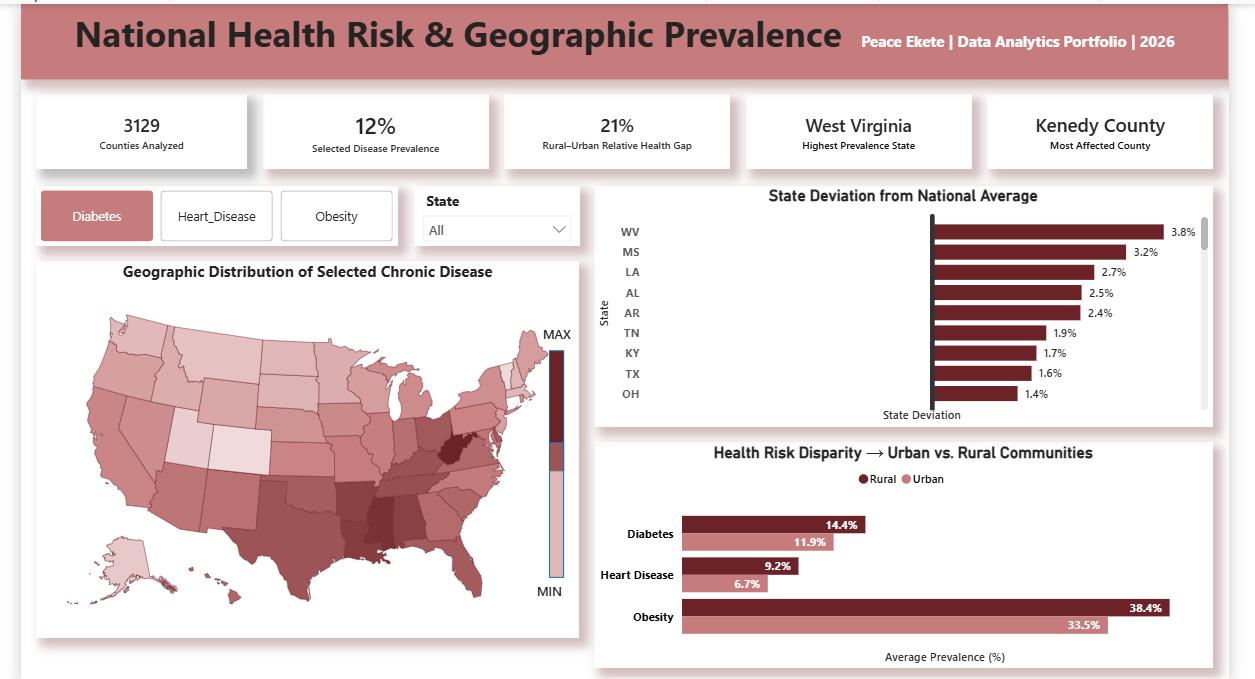

What the dashboard file says about the page in this screenshot:
{"tool":"powerbi","page":{"name":" Page 1 — National Health Risk & Geographic Prevalence","canvas":[1280,720],"ordinal":0},"visuals":[{"type":"advancedSlicerVisual","fields":{"Values":["Slicer_Table.Outcome_Name"]},"box":[16,192,384,64],"z":0},{"type":"clusteredBarChart","title":"Health Risk Disparity → Urban vs. Rural Communities","fields":{"Category":["Urban_Rural_Comparison.Metric"],"Y":["master_county_final.Chart_UrbanRural_Comparison"],"Series":["Urban_Rural_Comparison.Urban_Rural"]},"box":[608,464,656,240],"z":1000},{"type":"clusteredBarChart","title":"State Deviation from National Average","fields":{"Category":["master_county_final.State"],"Y":["master_county_final.State Deviation"]},"box":[608,192,656,256],"z":2000},{"type":"slicer","fields":{"Values":["State_Lookup.State_Full"]},"box":[416,192,176,64],"z":3000},{"type":"shapeMap","title":"Geographic Distribution of Selected Chronic Disease","fields":{"Value":["Outcome Selector.Selected_Outcome_Value4"],"Category":["State_Lookup.State_Full"]},"box":[16,272,576,400],"z":4000},{"type":"cardVisual","fields":{"Data":["master_county_final.Counties Analyzed"]},"box":[16,96,224,80],"z":5000},{"type":"textbox","box":[0,0,1280,80],"z":6000},{"type":"cardVisual","fields":{"Data":["master_county_final.Rural_Disparity_Pct"]},"box":[512,96,240,80],"z":7000},{"type":"cardVisual","fields":{"Data":["Outcome Selector.Health Outcome"]},"box":[256,96,240,80],"z":8000},{"type":"cardVisual","fields":{"Data":["master_county_final.Highest Prevalence State"]},"box":[768,96,240,80],"z":9000},{"type":"cardVisual","fields":{"Data":["master_county_final.Most_Vulnerable_County"]},"box":[1024,96,240,80],"z":10000},{"type":"shape","box":[560,368,16,128],"z":11000},{"type":"shape","box":[560,464,16,144],"z":12000},{"type":"textbox","box":[544,336,48,48],"z":13000},{"type":"textbox","box":[528,608,64,48],"z":14000}]}

Visuals, with their boxes on the page's 1280x720 design canvas (x1, y1, x2, y2). These are canvas units, not pixel positions in the 1255x679 screenshot, which may show the page scaled, cropped or inside an application window:
advancedSlicerVisual - Slicer_Table.Outcome_Name: 16 192 400 256
"Health Risk Disparity → Urban vs. Rural Communities" clusteredBarChart: 608 464 1264 704
"State Deviation from National Average" clusteredBarChart: 608 192 1264 448
slicer - State_Lookup.State_Full: 416 192 592 256
"Geographic Distribution of Selected Chronic Disease" shapeMap: 16 272 592 672
cardVisual - master_county_final.Counties Analyzed: 16 96 240 176
textbox: 0 0 1280 80
cardVisual - master_county_final.Rural_Disparity_Pct: 512 96 752 176
cardVisual - Outcome Selector.Health Outcome: 256 96 496 176
cardVisual - master_county_final.Highest Prevalence State: 768 96 1008 176
cardVisual - master_county_final.Most_Vulnerable_County: 1024 96 1264 176
shape: 560 368 576 496
shape: 560 464 576 608
textbox: 544 336 592 384
textbox: 528 608 592 656
